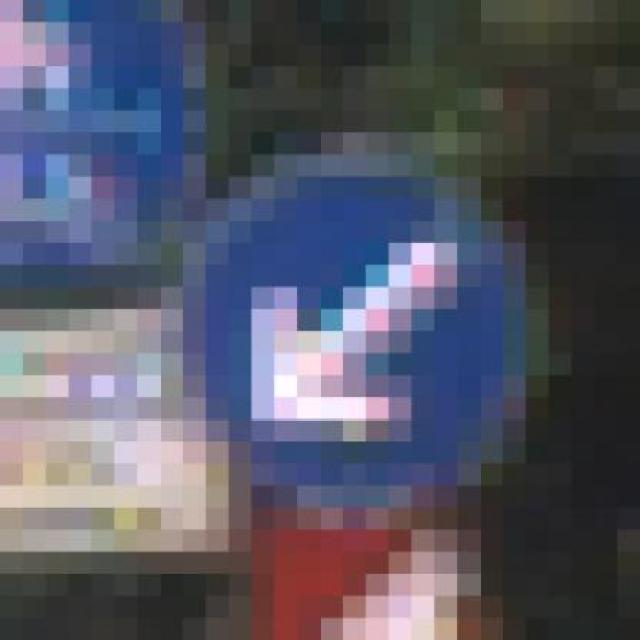Keep-Left: (182, 132, 595, 508)
